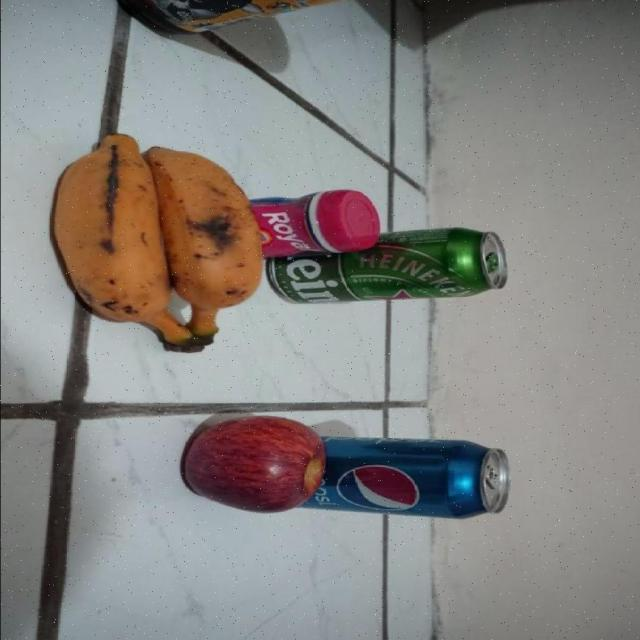Apple: (181, 414, 326, 515)
Banana: (51, 130, 262, 352)
BeerCan: (267, 227, 509, 306)
ChocolatePowder: (98, 0, 424, 37)
SodaCan: (278, 434, 511, 522)
Yeast: (238, 188, 381, 262)
